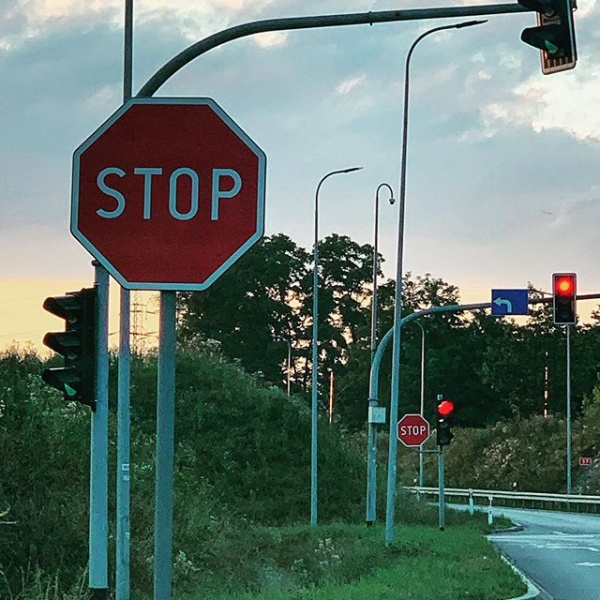stop: (58, 99, 269, 289), (397, 414, 430, 448)
